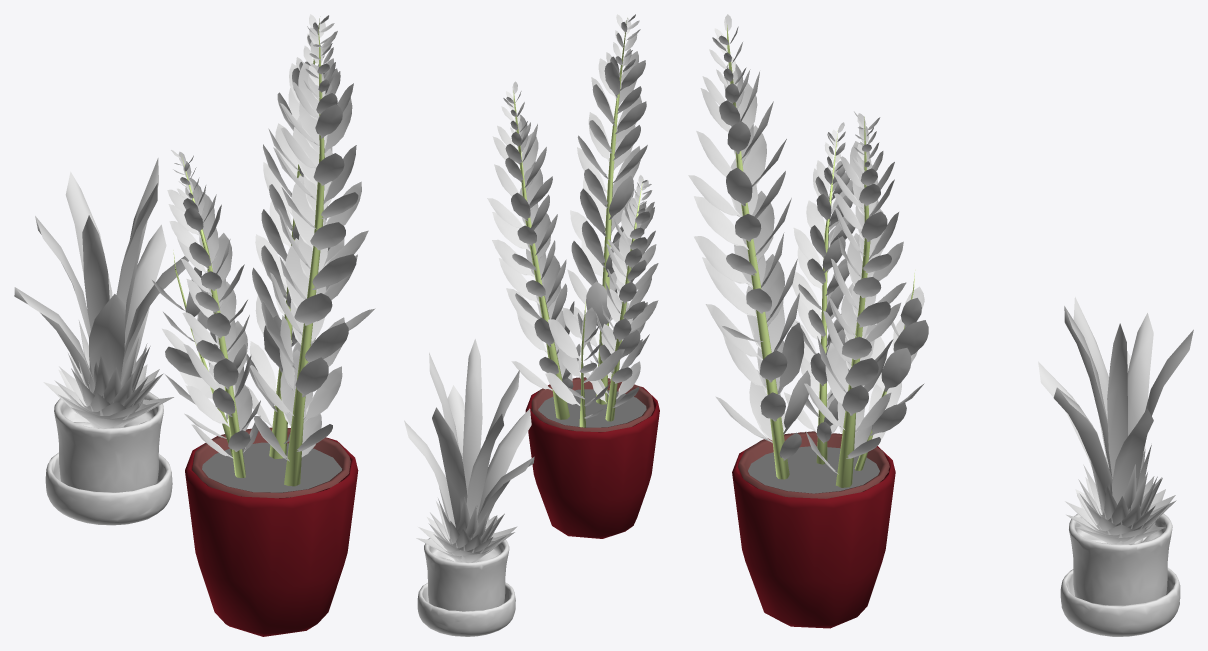
The model's file is plants.fbx.
The picture shows the model from 3 angles, left to right: view 1: azimuth 30°, elevation 25°; view 2: azimuth 150°, elevation 25°; view 3: azimuth 270°, elevation 25°; orthographic projection. The views are drawn at different scales.
Parts seen in each view (by area): view 1: Circle, Low-Poly Plant_; view 2: Circle, Low-Poly Plant_; view 3: Circle, Low-Poly Plant_.
Boxes of the visible parts, left/top/right/bottom form: Circle: left=152, top=14, right=375, bottom=636; Low-Poly Plant_: left=14, top=158, right=188, bottom=525; Circle: left=487, top=14, right=659, bottom=538; Low-Poly Plant_: left=404, top=339, right=534, bottom=636; Circle: left=688, top=14, right=928, bottom=628; Low-Poly Plant_: left=1038, top=297, right=1193, bottom=636.
Size of the model in its own units: 240 by 770 by 589.
